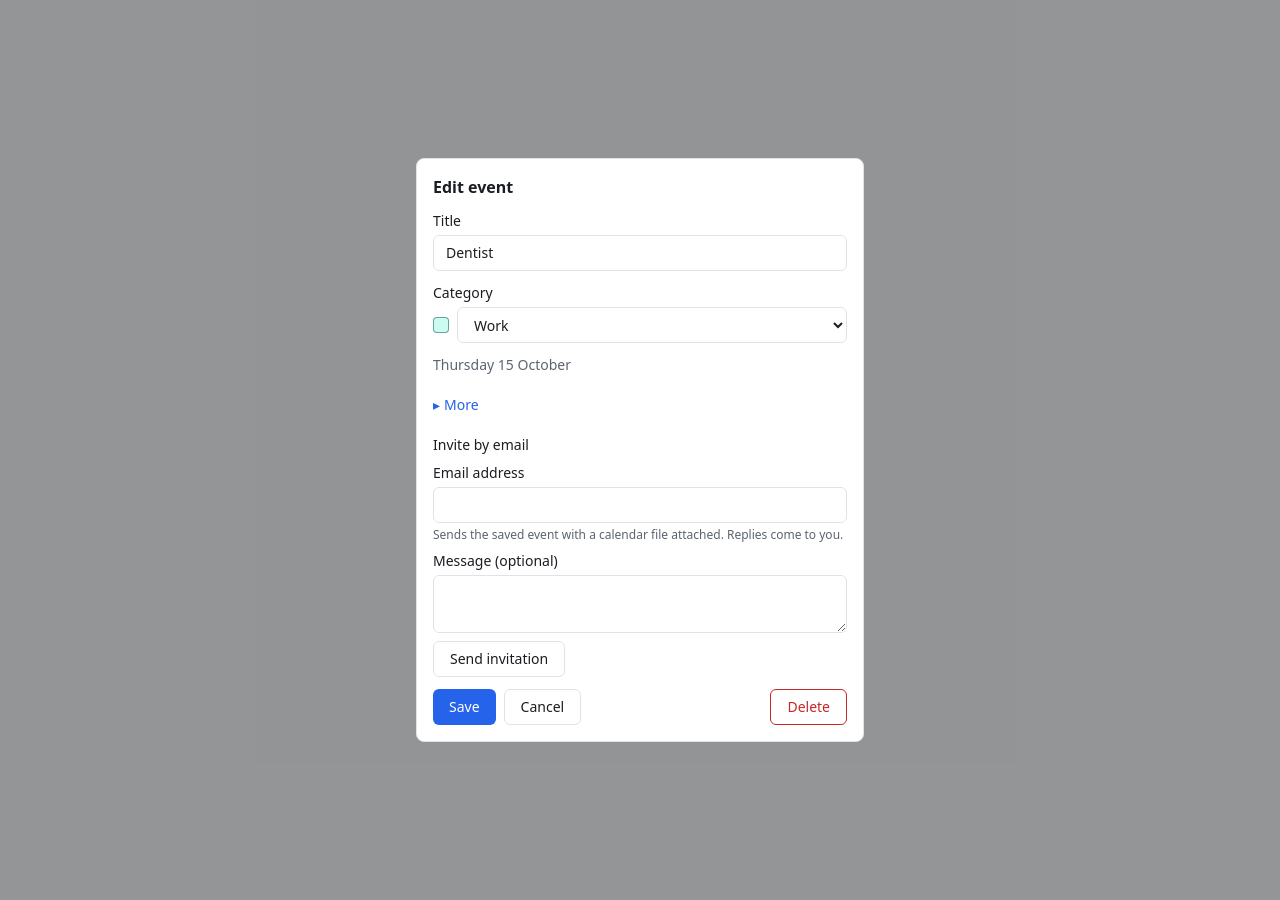
Test: edit conflict notice › offers Load latest / Keep editing when another device updates the event
The width and height of the screenshot is (1280, 900).
Step 1. Type " x" into the field labelled "Title" → (640, 253), box x1=433 y1=235 x2=847 y2=271
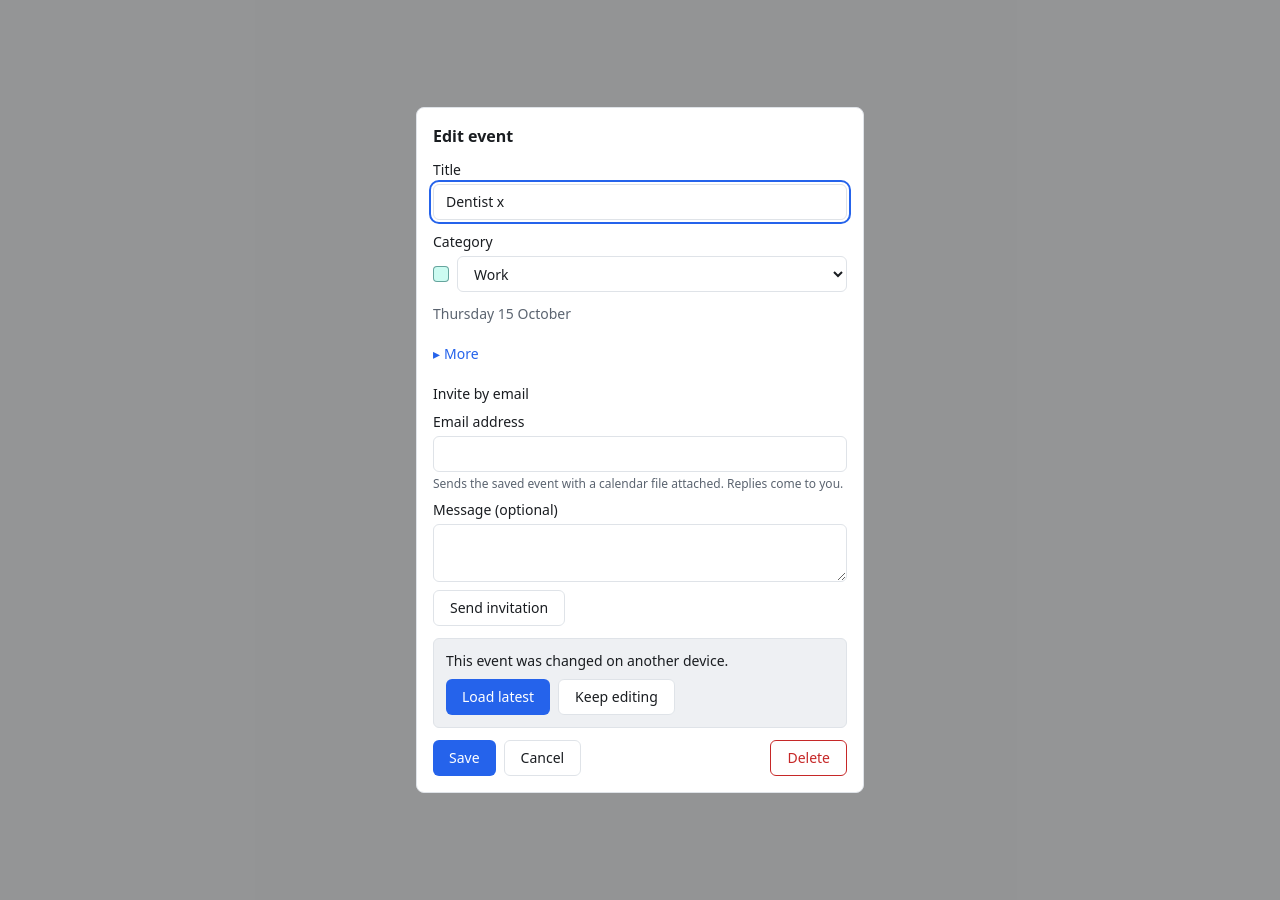
Result: the text "This event was changed on another device." is shown at x1=446 y1=651 x2=728 y2=670
Step 2. Click the button "Keep editing" → (616, 697), box x1=558 y1=679 x2=675 y2=715
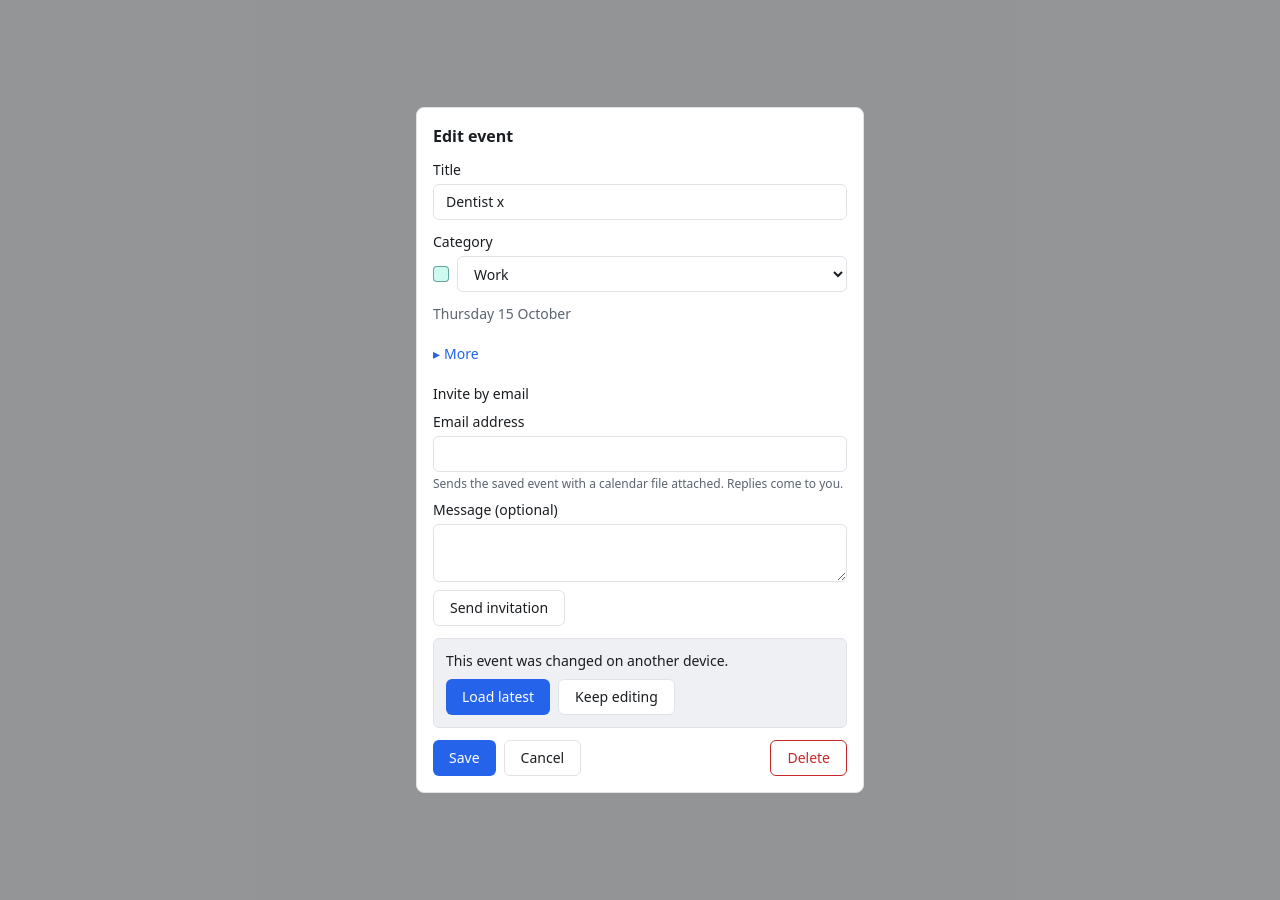
Result: the field labelled "Title" holds "Dentist x" at x1=433 y1=184 x2=847 y2=220
Step 3. Click the button "Load latest" → (498, 697), box x1=446 y1=679 x2=550 y2=715
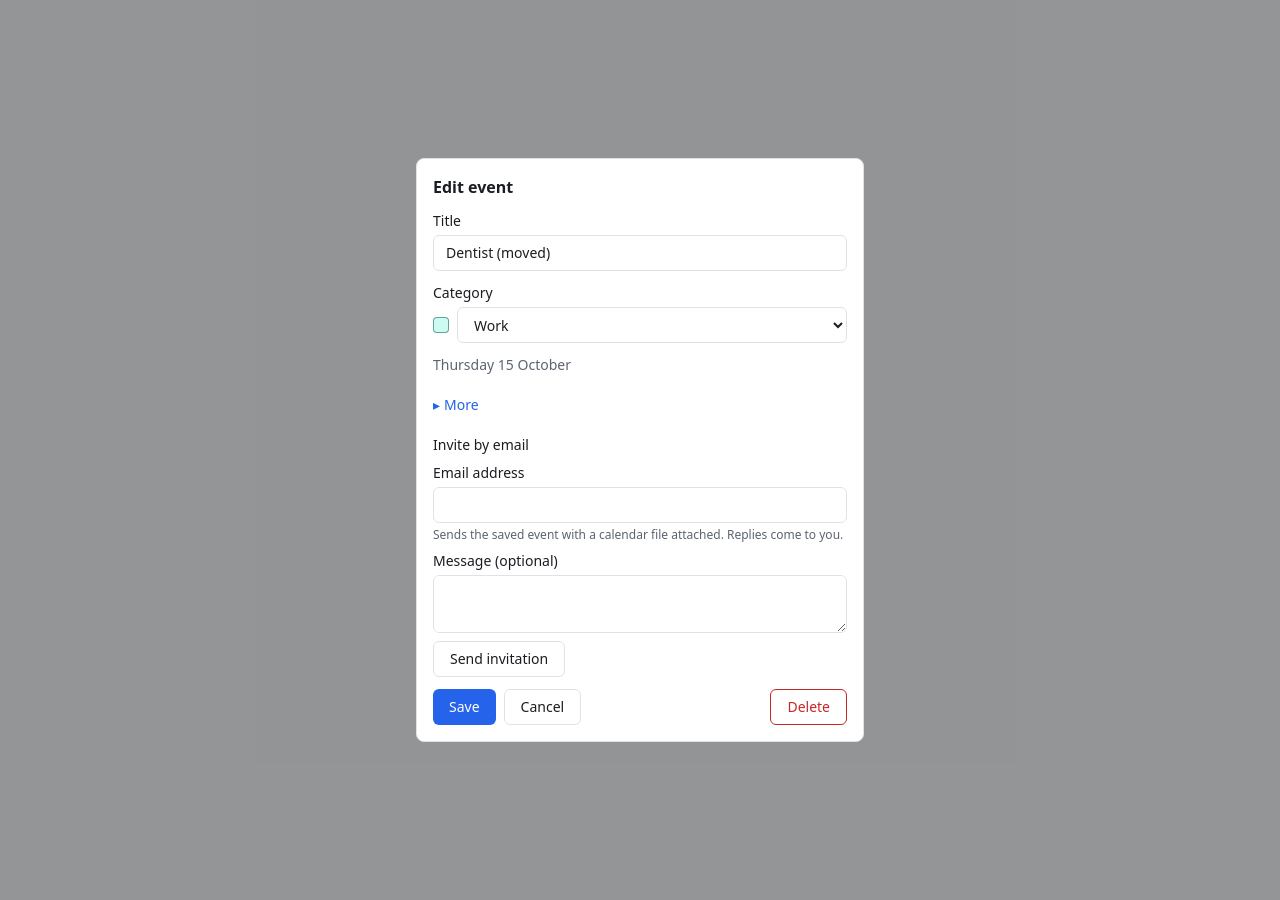
Result: the field labelled "Title" holds "Dentist (moved)" at x1=433 y1=235 x2=847 y2=271
Result: the text "another device" is gone
